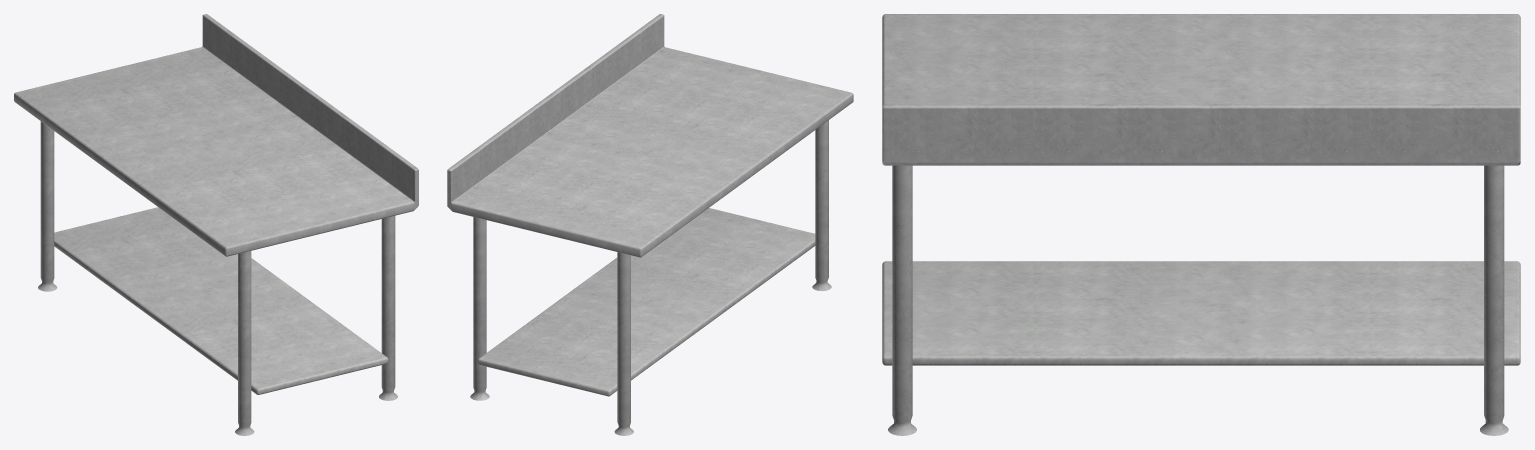
Rendered from ComWorkTable01.FBX.
The picture shows the model from 3 angles, left to right: view 1: azimuth 30°, elevation 25°; view 2: azimuth 150°, elevation 25°; view 3: azimuth 270°, elevation 25°; orthographic projection. The views are drawn at different scales.
Parts seen in each view (by area): view 1: ComWorkTable01; view 2: ComWorkTable01; view 3: ComWorkTable01.
Part boxes in pixels (left/top/right/bottom): ComWorkTable01: left=14, top=14, right=418, bottom=435; ComWorkTable01: left=447, top=14, right=853, bottom=435; ComWorkTable01: left=882, top=14, right=1520, bottom=435.
Size of the model in its own units: 84.32 by 94.44 by 160.
